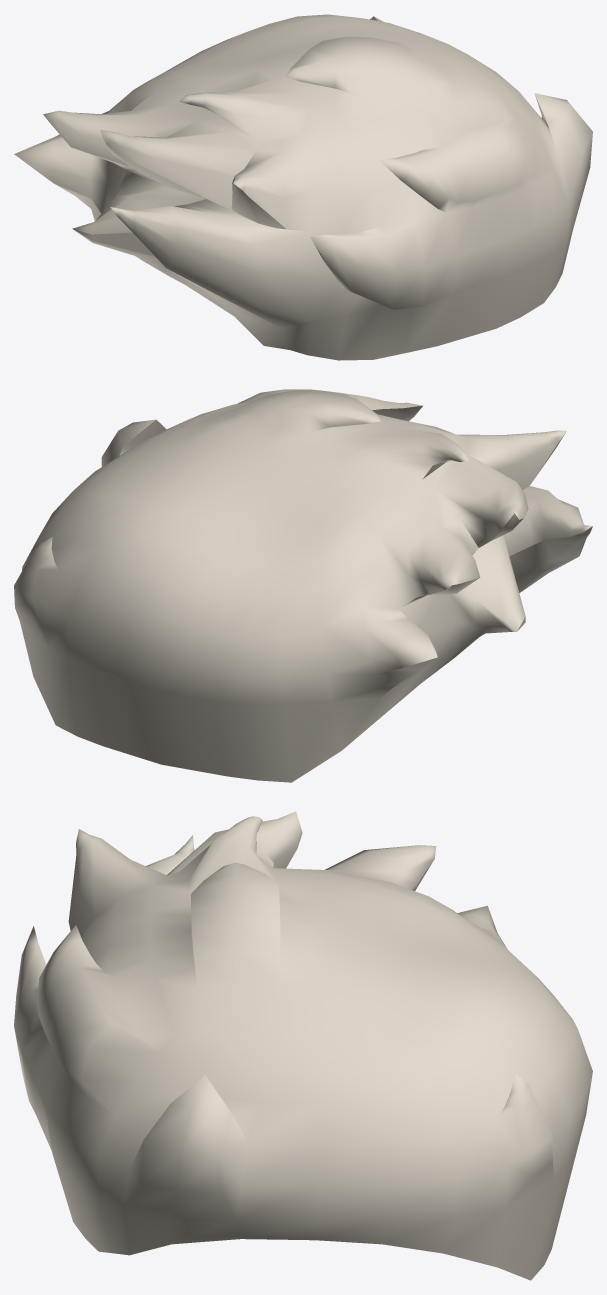
The model's file is Hair_22_07.fbx.
The picture shows the model from 3 angles, top to bottom: view 1: azimuth 30°, elevation 25°; view 2: azimuth 150°, elevation 25°; view 3: azimuth 270°, elevation 25°; orthographic projection. The views are drawn at different scales.
Visible parts, largest first — view 1: Hair_22_07; view 2: Hair_22_07; view 3: Hair_22_07.
Boxes of the visible parts, x1,y1,x2,y2 form: Hair_22_07: (14, 14, 592, 360); Hair_22_07: (14, 389, 592, 782); Hair_22_07: (14, 811, 592, 1280).
Size of the model in its own units: 34.1 by 18.35 by 30.44.
